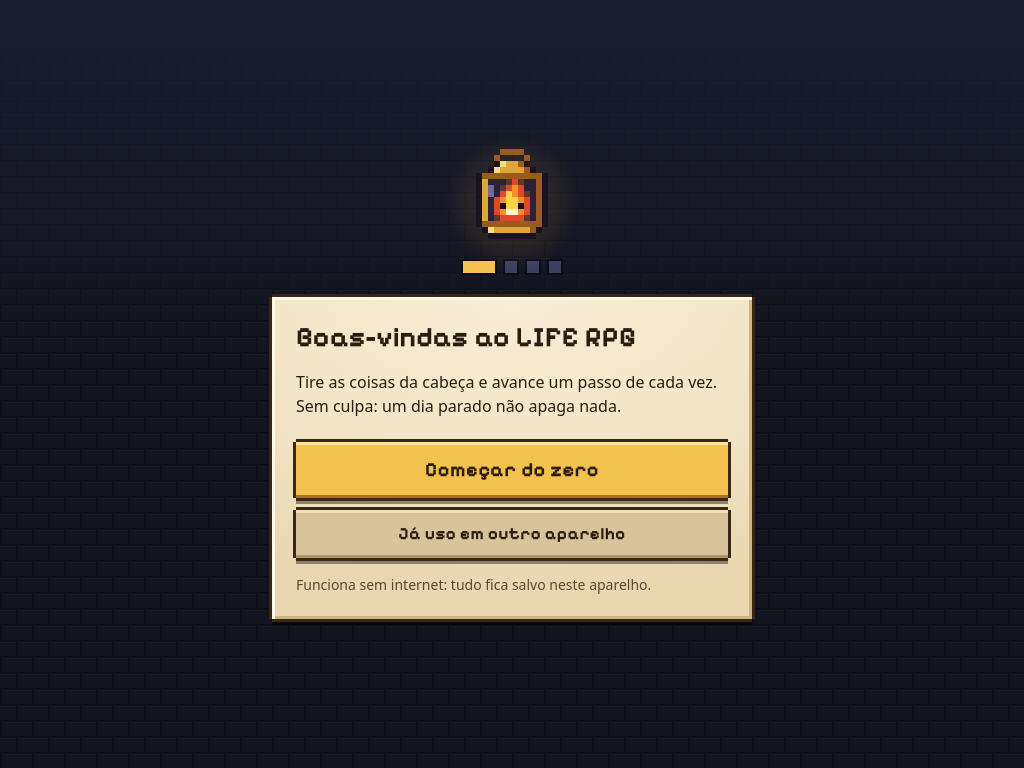
Test: Onboarding › the appearance radios are named after their visible labels
Click the button "Começar do zero". click: (512, 470)
box: [296,442,728,498]
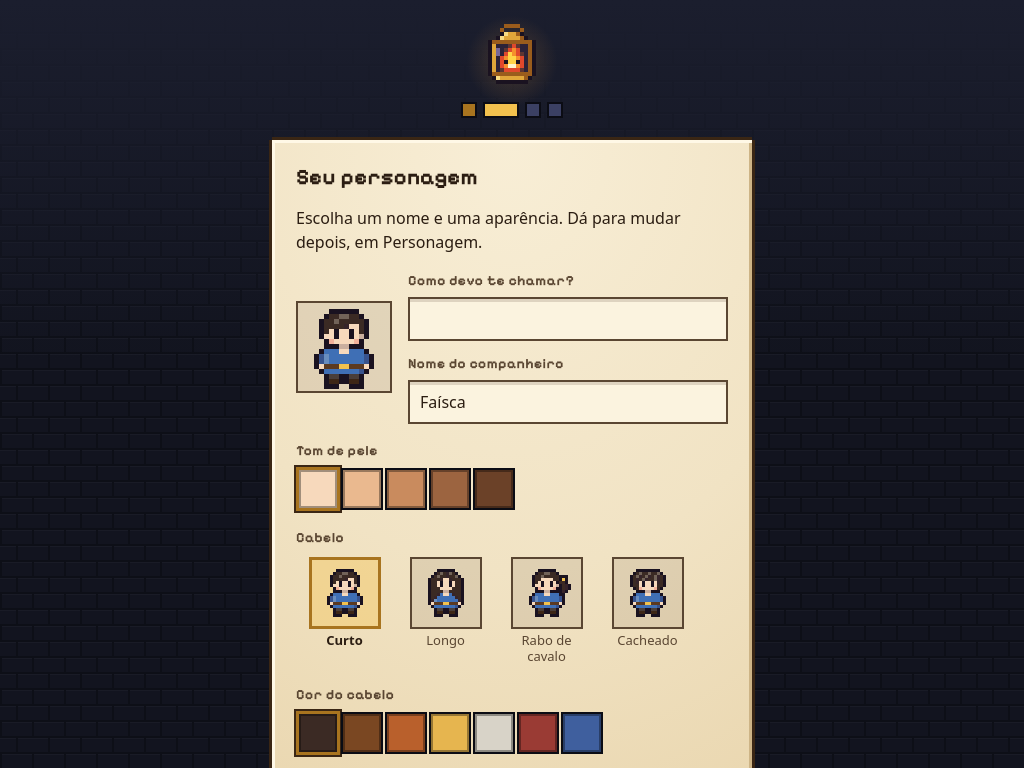
Now the field labelled "Como devo te chamar?" is shown, box [408,297,728,341]
